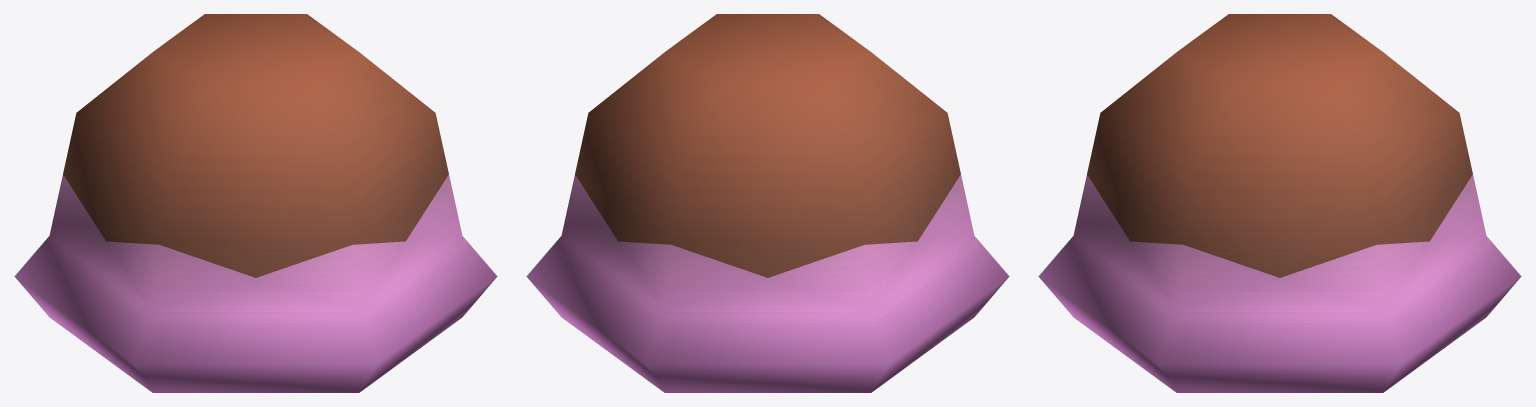
The model's file is ice-cream-scoop-chocolate.glb.
3 renders of one model, left to right at view 1: azimuth 30°, elevation 25°; view 2: azimuth 150°, elevation 25°; view 3: azimuth 270°, elevation 25°, orthographic.
Parts seen in each view (by area): view 1: ice-cream-scoop-chocolate; view 2: ice-cream-scoop-chocolate; view 3: ice-cream-scoop-chocolate.
Boxes of the visible parts, left/top/right/bottom form: ice-cream-scoop-chocolate: left=14, top=14, right=497, bottom=392; ice-cream-scoop-chocolate: left=526, top=14, right=1009, bottom=392; ice-cream-scoop-chocolate: left=1038, top=14, right=1521, bottom=392.
Bounding box in the file's own units: 0.2352 × 0.165 × 0.2716.
1 material, 1 textured.
